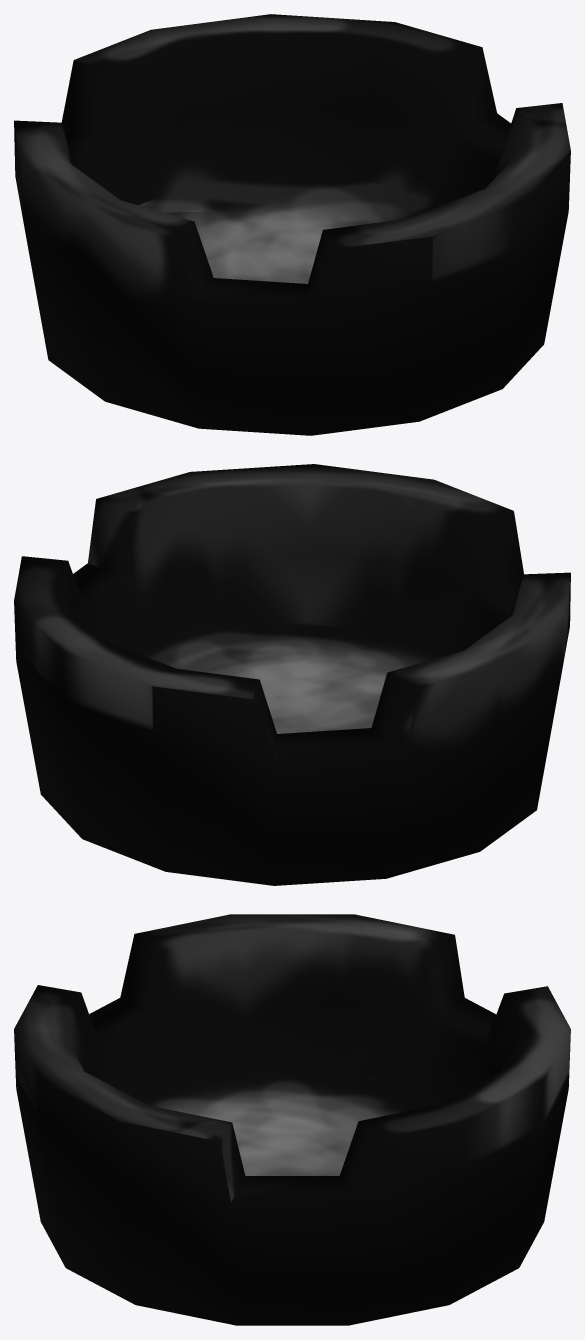
Rendered from obj_AshTray 1.fbx.
The picture shows the model from 3 angles, top to bottom: view 1: azimuth 30°, elevation 25°; view 2: azimuth 150°, elevation 25°; view 3: azimuth 270°, elevation 25°; orthographic projection.
Visible parts, largest first — view 1: obj_AshTray; view 2: obj_AshTray; view 3: obj_AshTray.
Part boxes in pixels (x1,y1,x2,y2): obj_AshTray: (14,14,570,435); obj_AshTray: (14,464,570,885); obj_AshTray: (14,914,570,1325).
Bounding box in the file's own units: 0.1211 × 0.0476 × 0.1247.
1 material, 1 textured.
